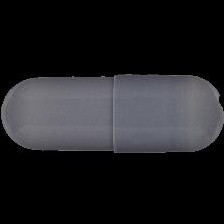21695-403: (0, 0, 224, 224)
